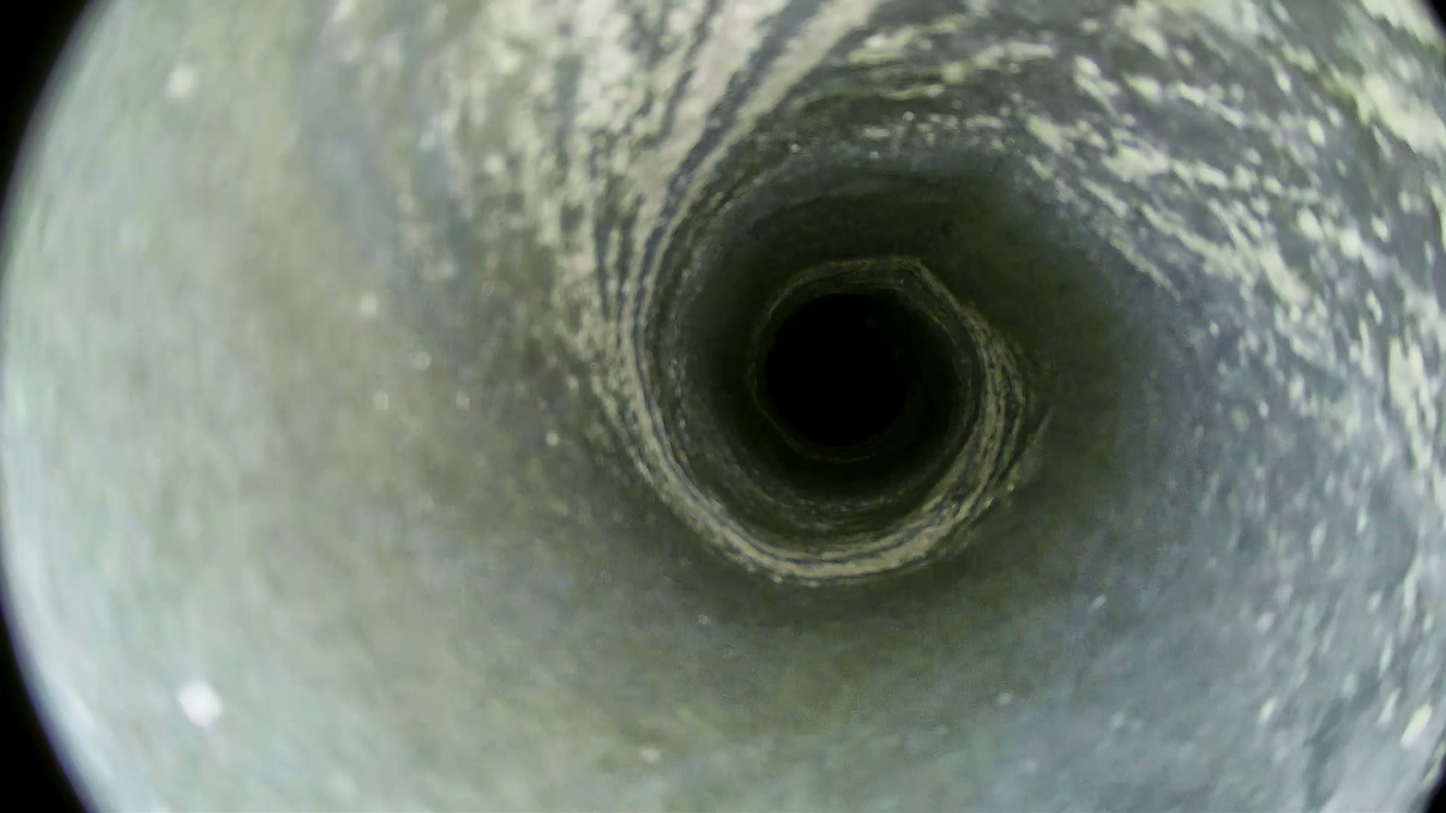hole: (769, 317, 905, 446)
